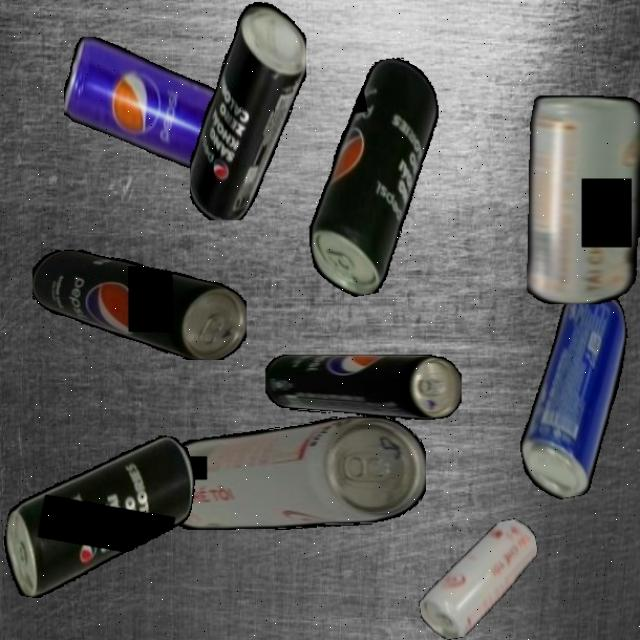debris: (281, 53, 468, 302), (0, 412, 202, 621), (495, 281, 640, 504), (153, 416, 426, 530), (188, 0, 306, 220), (526, 94, 640, 304), (32, 250, 246, 360), (63, 36, 218, 168), (408, 516, 550, 640), (264, 354, 462, 420)
